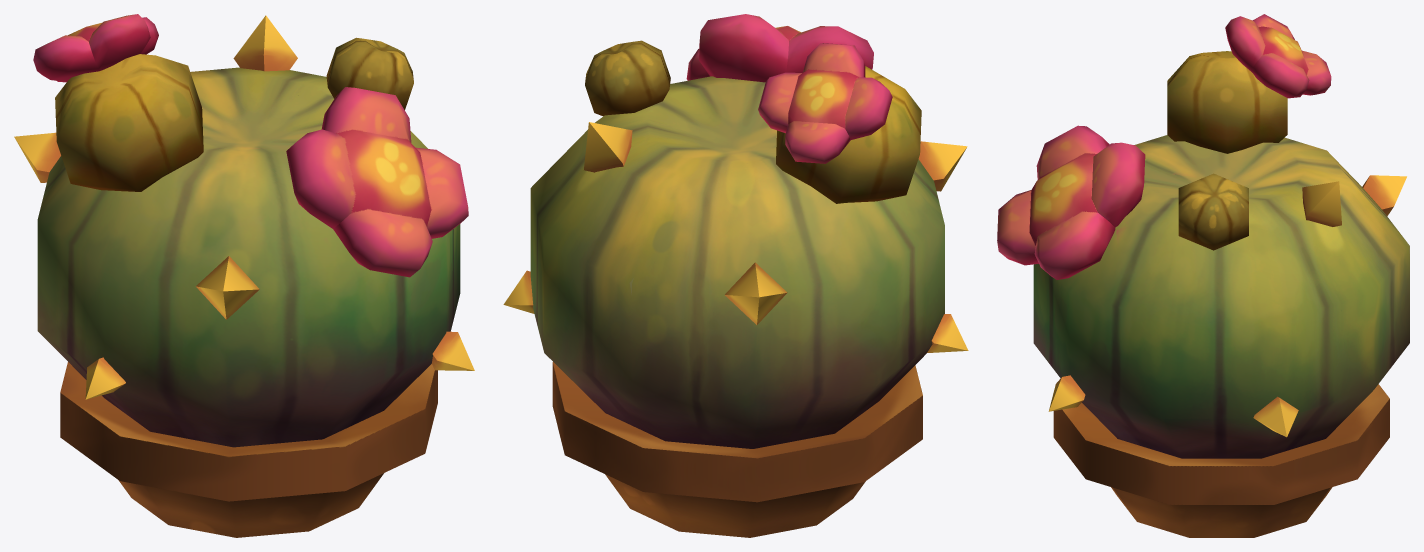
The model's file is penny.glb.
The picture shows the model from 3 angles, left to right: view 1: azimuth 30°, elevation 25°; view 2: azimuth 150°, elevation 25°; view 3: azimuth 270°, elevation 25°; orthographic projection. The views are drawn at different scales.
Visible parts, largest first — view 1: pot_001; view 2: pot_001; view 3: pot_001.
Boxes of the visible parts, x1,y1,x2,y2 form: pot_001: (14,14,474,537); pot_001: (503,14,968,537); pot_001: (997,14,1409,537).
Size of the model in its own units: 0.0842 by 0.0983 by 0.0862.
1 material, 1 textured.
